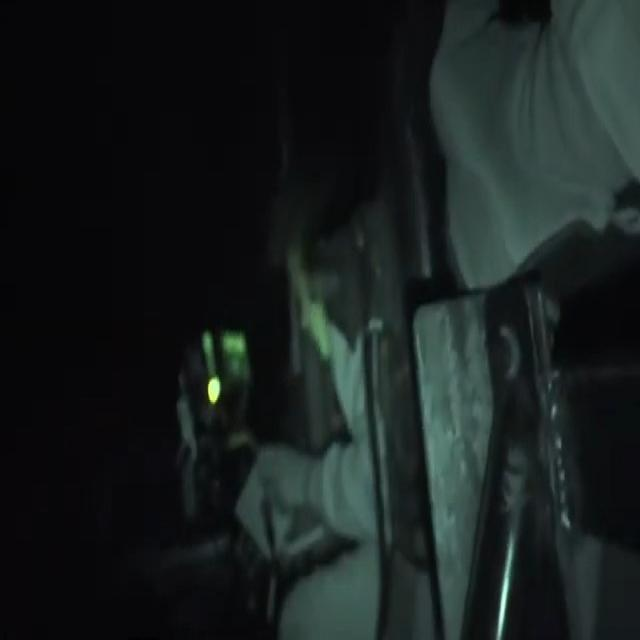device: (177, 277, 244, 503)
human: (244, 152, 390, 640)
